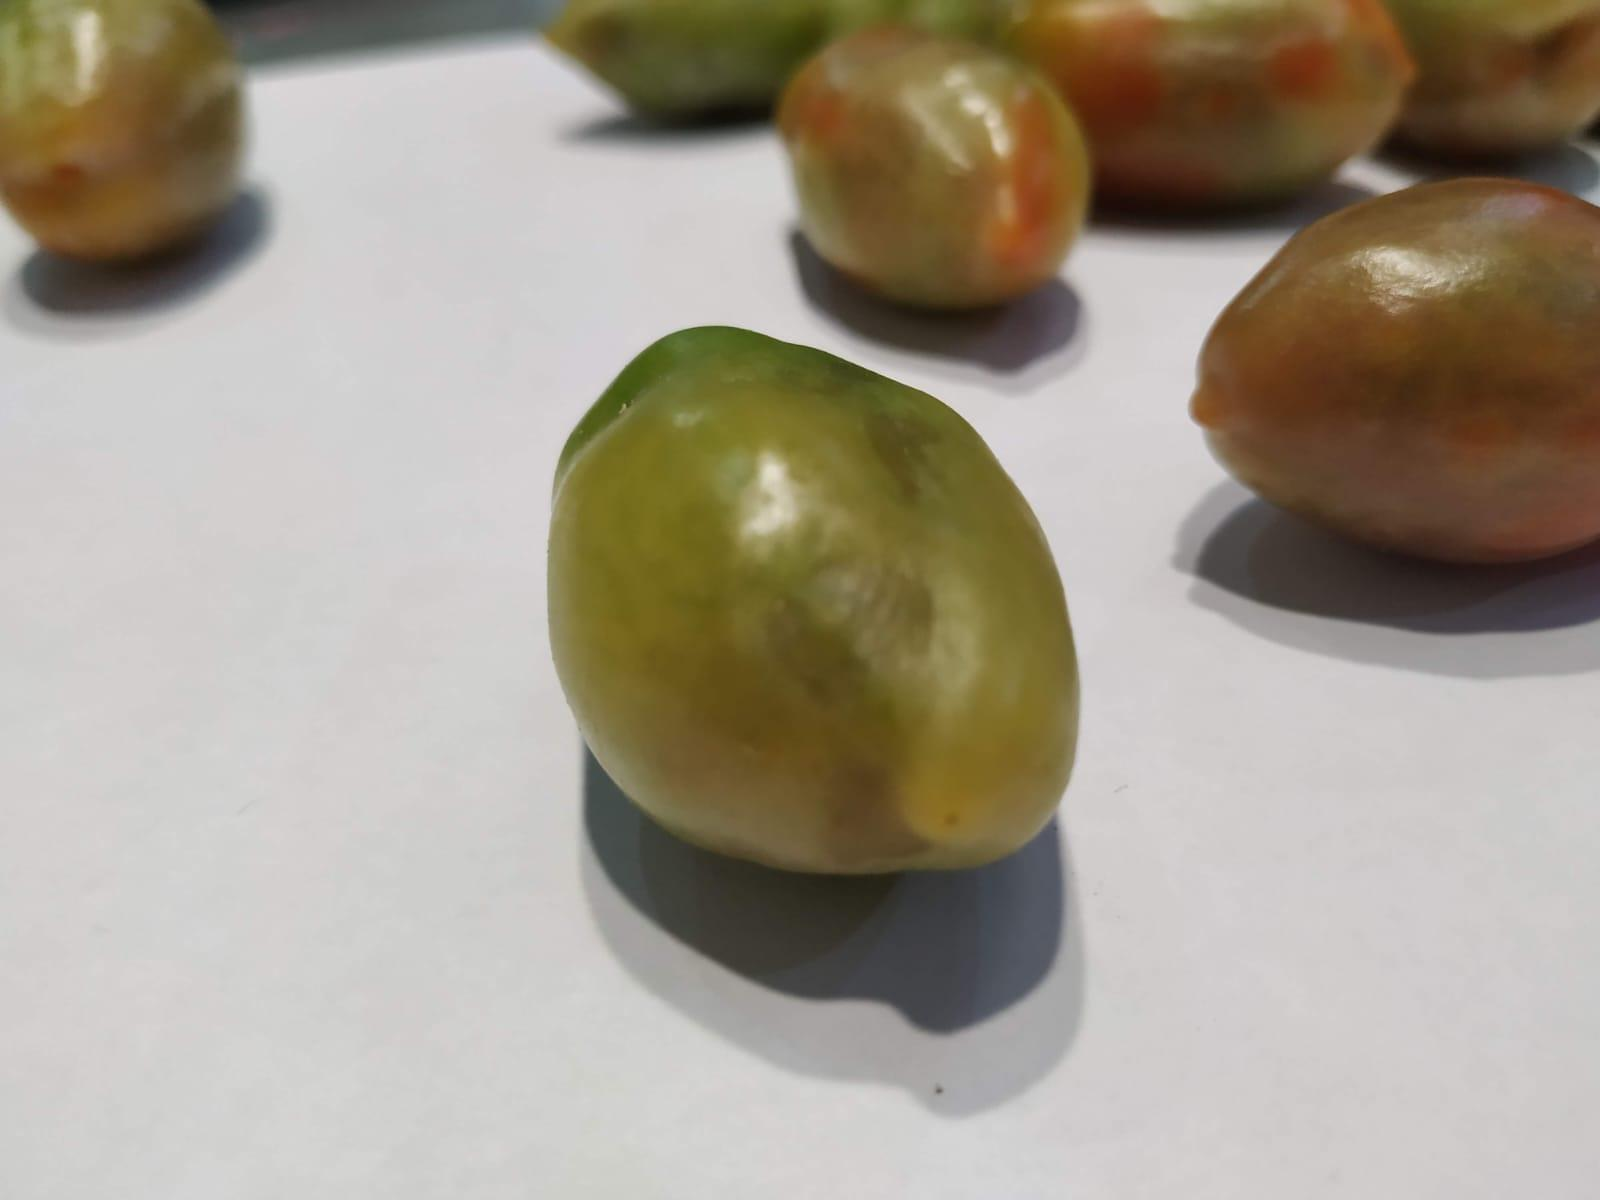Tomate Rugoso: (547, 324, 1078, 874), (1191, 178, 1600, 562)
